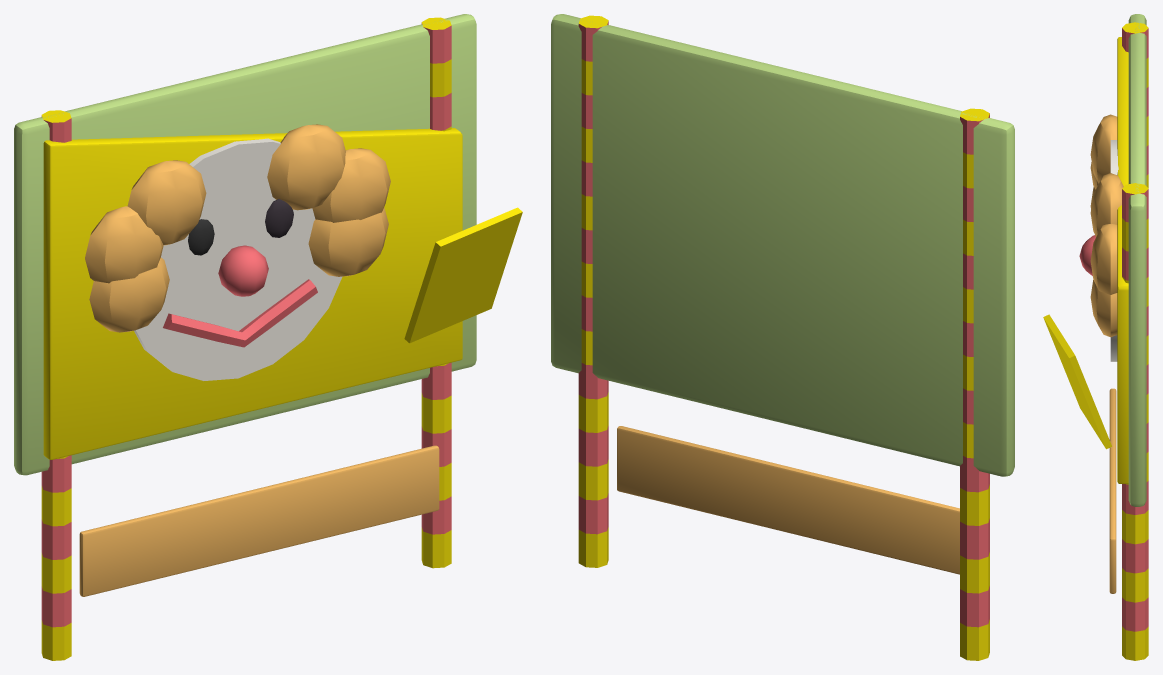
The model's file is TW_ClownSign.fbx.
3 views of the same model, side by side, from view 1: azimuth 30°, elevation 25°; view 2: azimuth 150°, elevation 25°; view 3: azimuth 270°, elevation 25° (orthographic). The views are drawn at different scales.
Visible parts, largest first — view 1: Body; view 2: Body; view 3: Body.
Boxes of the visible parts, <box> form: Body: <box>14,14,522,660</box>; Body: <box>551,14,1014,660</box>; Body: <box>1043,14,1148,660</box>.
Bounding box in the file's own units: 4.18 × 4.6 × 0.9441.
